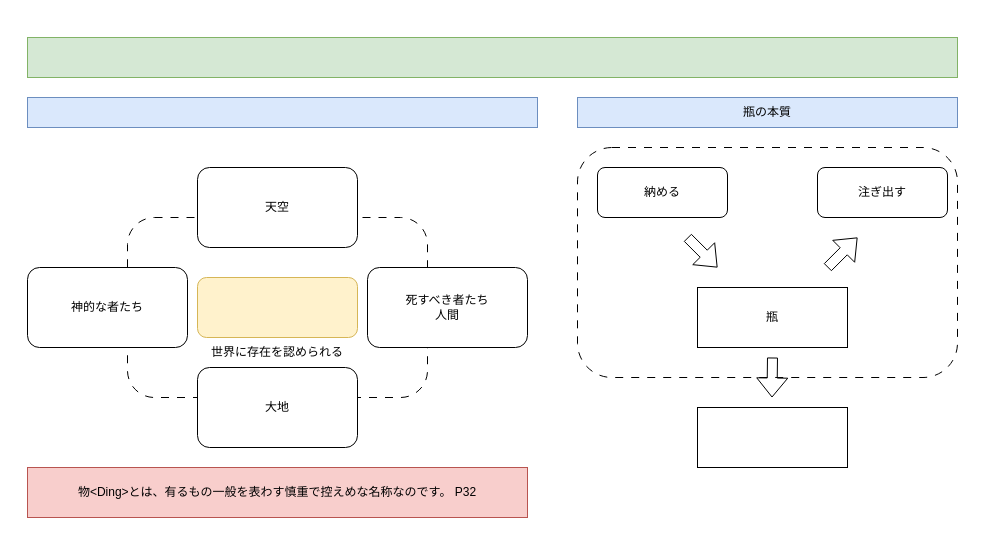
This 984x544 diagram has some shape labels left out. Here are the shapes that lost their labels. From the top down, the centre of each, then its label:
(x=492, y=57): 技術とは何だろうか 物
(x=282, y=112): 四方界
(x=277, y=307): 物 Ding
(x=772, y=437): 捧げられる瓶 神酒、ワイン
